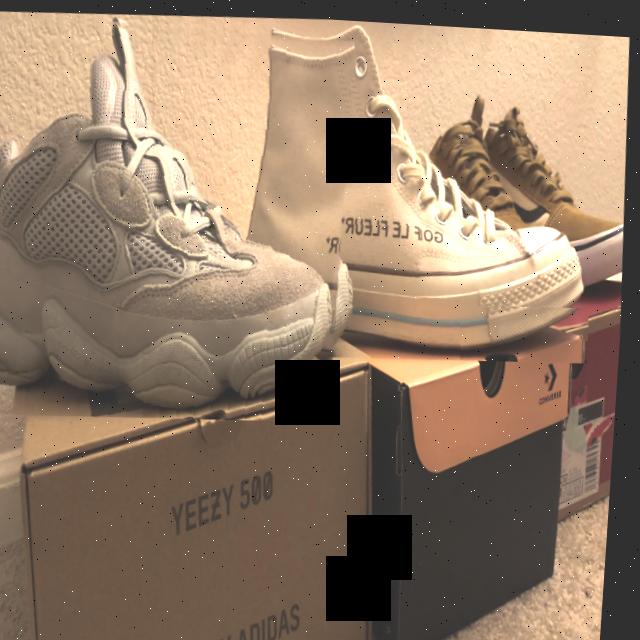shoe: (0, 0, 369, 430), (236, 12, 608, 367), (411, 70, 636, 308)
